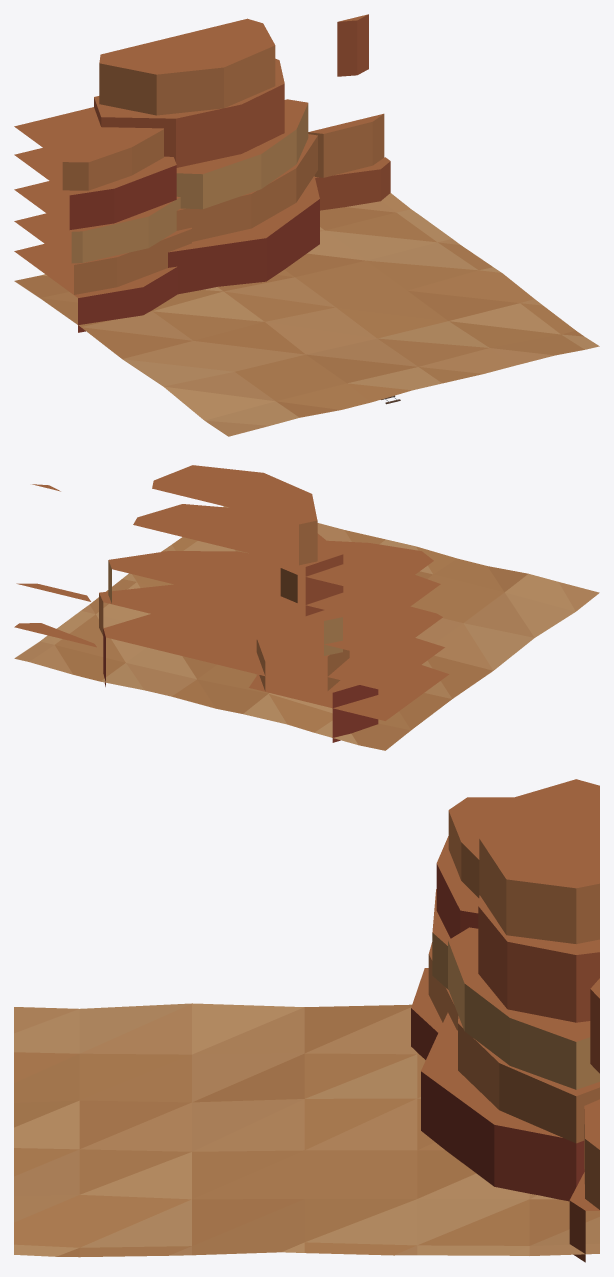
3 views of the same model, one above another, from view 1: azimuth 30°, elevation 25°; view 2: azimuth 150°, elevation 25°; view 3: azimuth 270°, elevation 25° (orthographic). The views are drawn at different scales.
Visible parts, largest first — view 1: baked; view 2: baked; view 3: baked.
Part boxes in pixels (x1,y1,x2,y2): baked: (14,14,599,436); baked: (14,465,599,750); baked: (14,779,599,1262).
Bounding box in the file's own units: 62.5 × 33.8 × 62.5.
